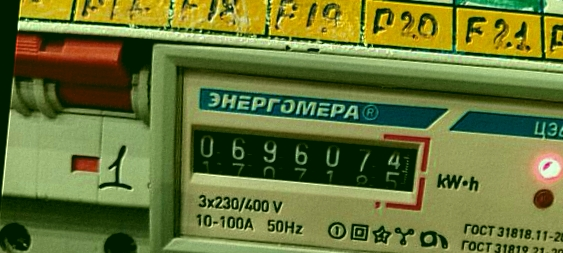0: (196, 133, 217, 159), (323, 142, 342, 169)
4: (385, 147, 403, 170)
5: (383, 170, 401, 191)
6: (291, 139, 311, 167), (228, 135, 248, 161)
7: (354, 146, 373, 173)
9: (260, 137, 278, 164)
screen: (175, 111, 434, 215)
